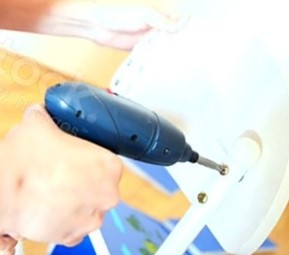driller: (41, 77, 222, 176)
